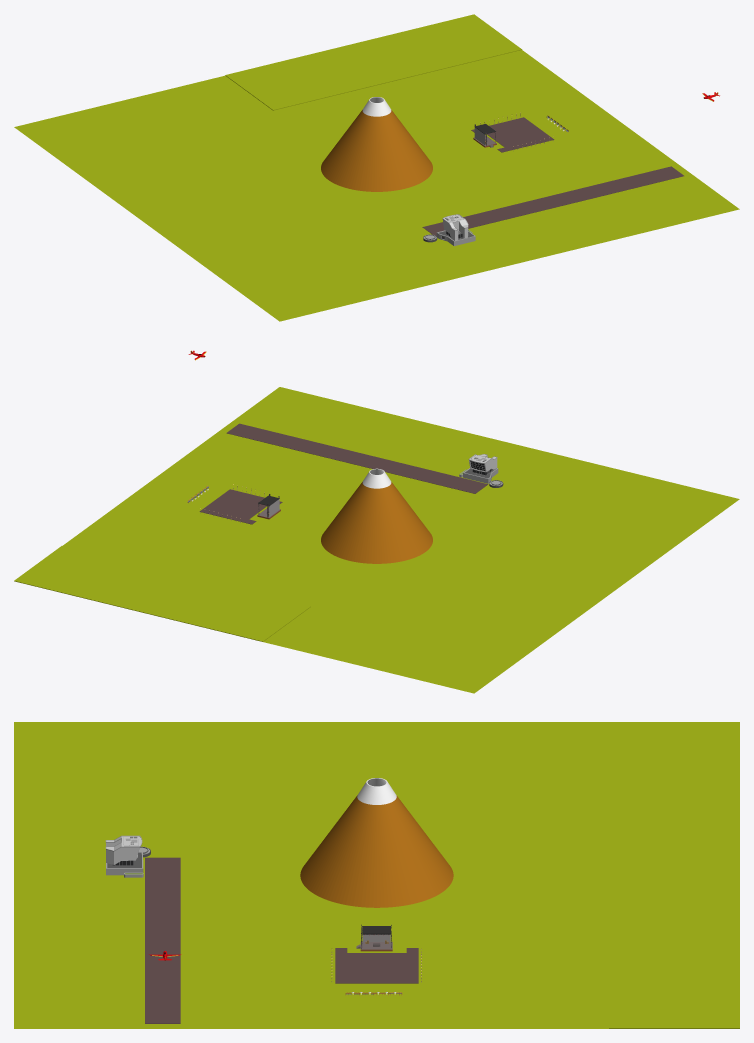
Rendered from PopstyleRe.glb.
3 views of the same model, one above another, from view 1: azimuth 30°, elevation 25°; view 2: azimuth 150°, elevation 25°; view 3: azimuth 270°, elevation 25° (orthographic). The views are drawn at different scales.
Visible parts, largest first — view 1: Ground, Ground.001, Mountain_Bottom, Airport_lane, Stage_Ground, MainBody; view 2: Ground, Ground.001, Mountain_Bottom, Airport_lane, Stage_Ground, MainBody; view 3: Ground, Ground.001, Mountain_Bottom, Airport_lane, Stage_Ground, MainBody, Mountain_Top.
Part boxes in pixels (x1,y1,x2,y2): Ground: (14,50,739,321); Ground.001: (225,14,522,110); Mountain_Bottom: (321,110,432,191); Airport_lane: (422,166,683,235); Stage_Ground: (471,117,554,152); MainBody: (436,214,475,246); Ground: (63,387,739,693); Ground.001: (14,546,310,641); Mountain_Bottom: (321,482,432,563); Airport_lane: (226,423,487,493); Stage_Ground: (199,489,282,524); MainBody: (463,454,498,483); Ground: (14,722,739,1028); Ground.001: (609,862,739,1028); Mountain_Bottom: (300,795,453,907); Airport_lane: (145,857,180,1023); Stage_Ground: (335,948,418,983); MainBody: (105,835,143,875); Mountain_Top: (357,778,396,804).
Size of the model in its own units: 583 by 77.94 by 543.
